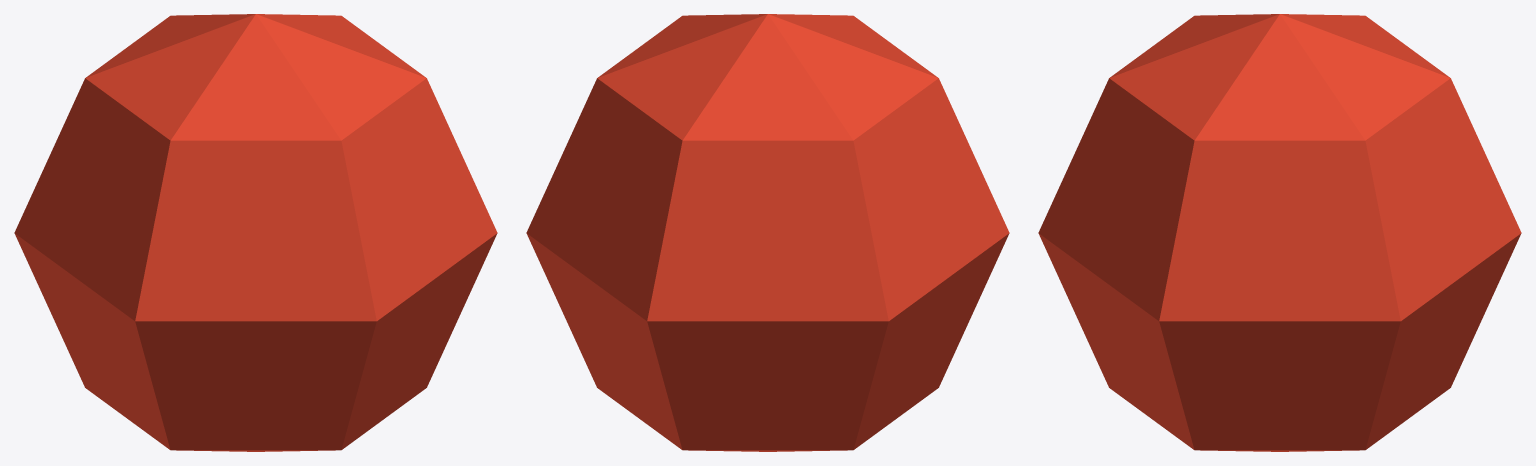
File: lamp.glb
3 renders of one model, left to right at view 1: azimuth 30°, elevation 25°; view 2: azimuth 150°, elevation 25°; view 3: azimuth 270°, elevation 25°, orthographic.
Parts seen in each view (by area): view 1: lamp; view 2: lamp; view 3: lamp.
Part boxes in pixels (bbox=[...]): lamp: bbox=[14, 14, 497, 451]; lamp: bbox=[526, 14, 1009, 451]; lamp: bbox=[1038, 14, 1521, 451].
Size of the model in its own units: 0.5196 by 0.6 by 0.6.
